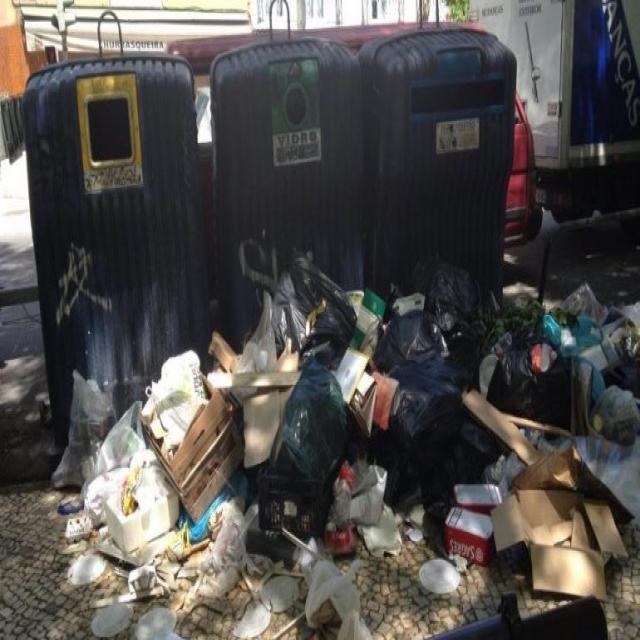high trash: (52, 256, 640, 640)
